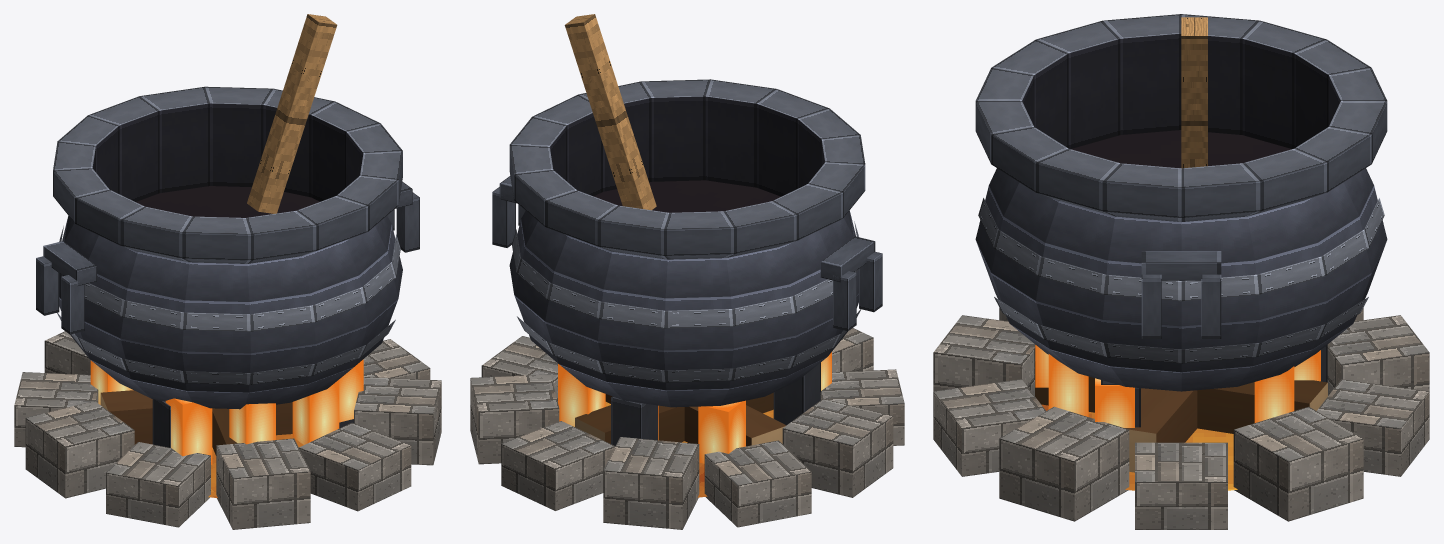
The model's file is cauldron.glb.
The picture shows the model from 3 angles, left to right: view 1: azimuth 30°, elevation 25°; view 2: azimuth 150°, elevation 25°; view 3: azimuth 270°, elevation 25°; orthographic projection. The views are drawn at different scales.
Parts seen in each view (by area): view 1: root; view 2: root; view 3: root.
Boxes of the visible parts, x1,y1,x2,y2 form: root: [14, 14, 441, 529]; root: [470, 14, 904, 529]; root: [933, 14, 1429, 529].
Size of the model in its own units: 99.9 by 103 by 101.
Materials: 2 (2 with a texture image).
